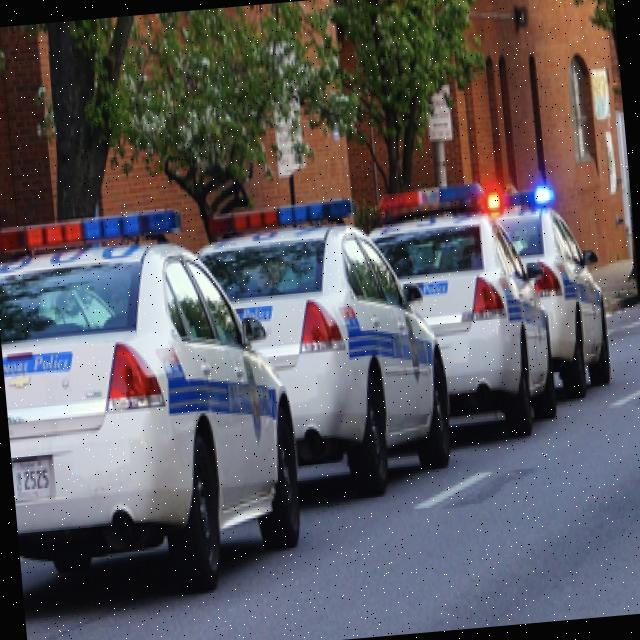Autre: (11, 454, 53, 498)
